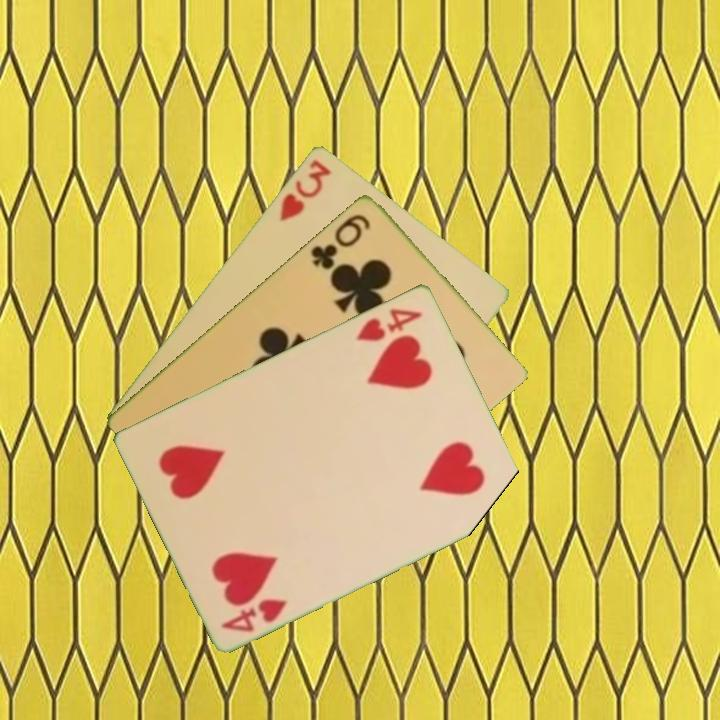3h: (275, 155, 334, 225)
4h: (217, 594, 290, 635), (352, 304, 426, 344)
6c: (307, 209, 374, 272)
